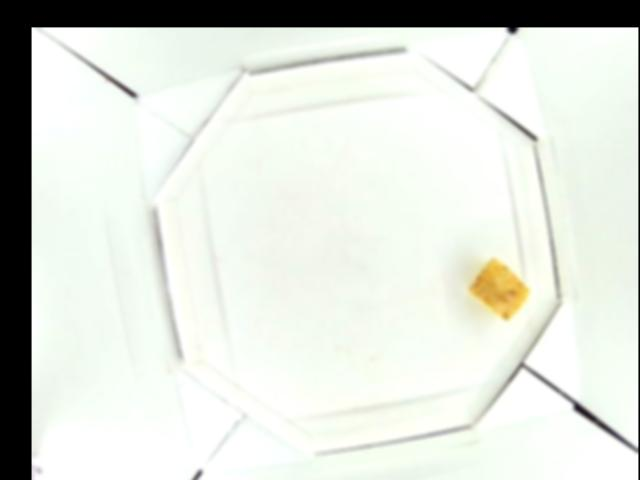Potato: (469, 256, 529, 321)
